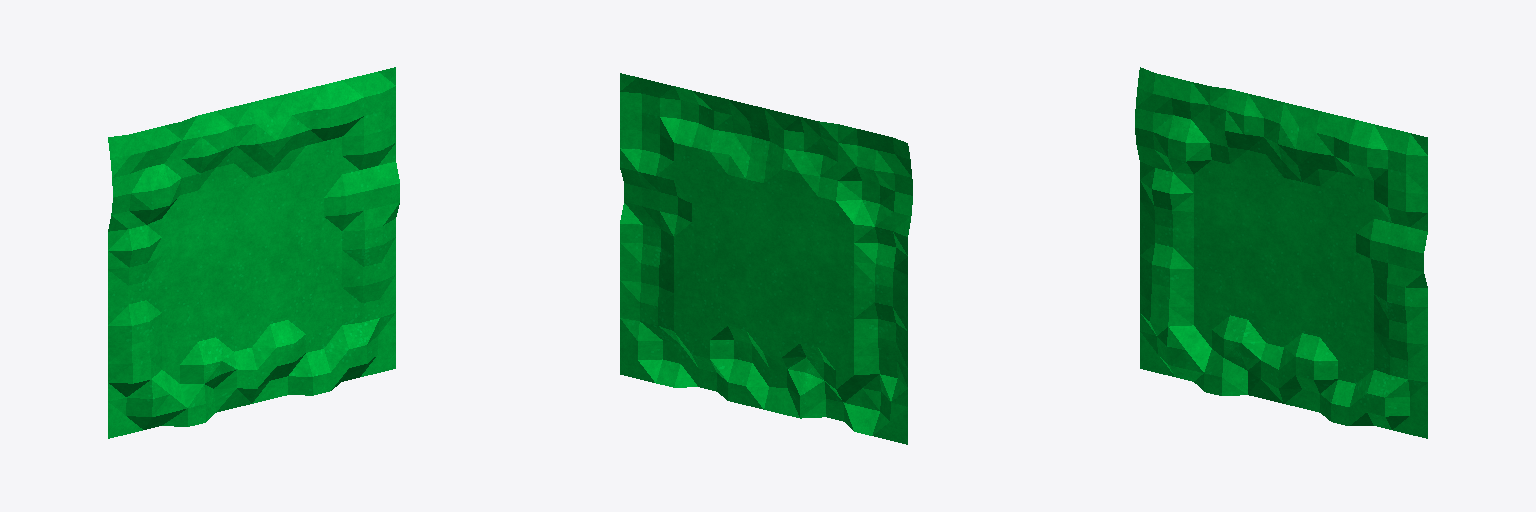
3 views of the same model, side by side, from view 1: azimuth 30°, elevation 25°; view 2: azimuth 150°, elevation 25°; view 3: azimuth 330°, elevation 25° (orthographic).
Parts seen in each view (by area): view 1: 平面; view 2: 平面; view 3: 平面.
Boxes of the visible parts, x1,y1,x2,y2 form: 平面: [108, 67, 399, 438]; 平面: [620, 73, 912, 444]; 平面: [1135, 67, 1427, 438].
Size of the model in its own units: 20 by 20 by 1.21.
1 materials, 1 textured.